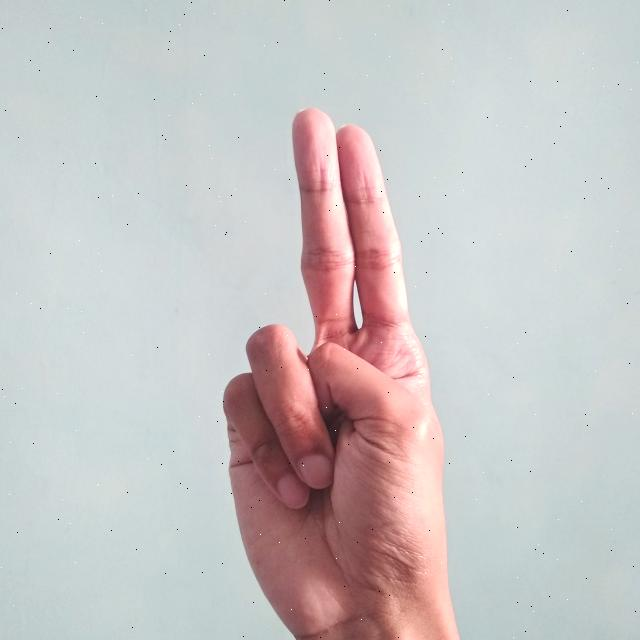U: (215, 97, 454, 640)
